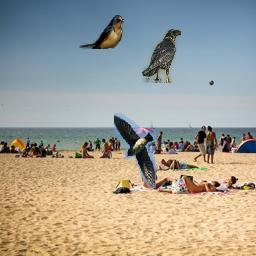Crow: (143, 29, 182, 83)
Swallow: (114, 114, 156, 189), (80, 15, 125, 49)
